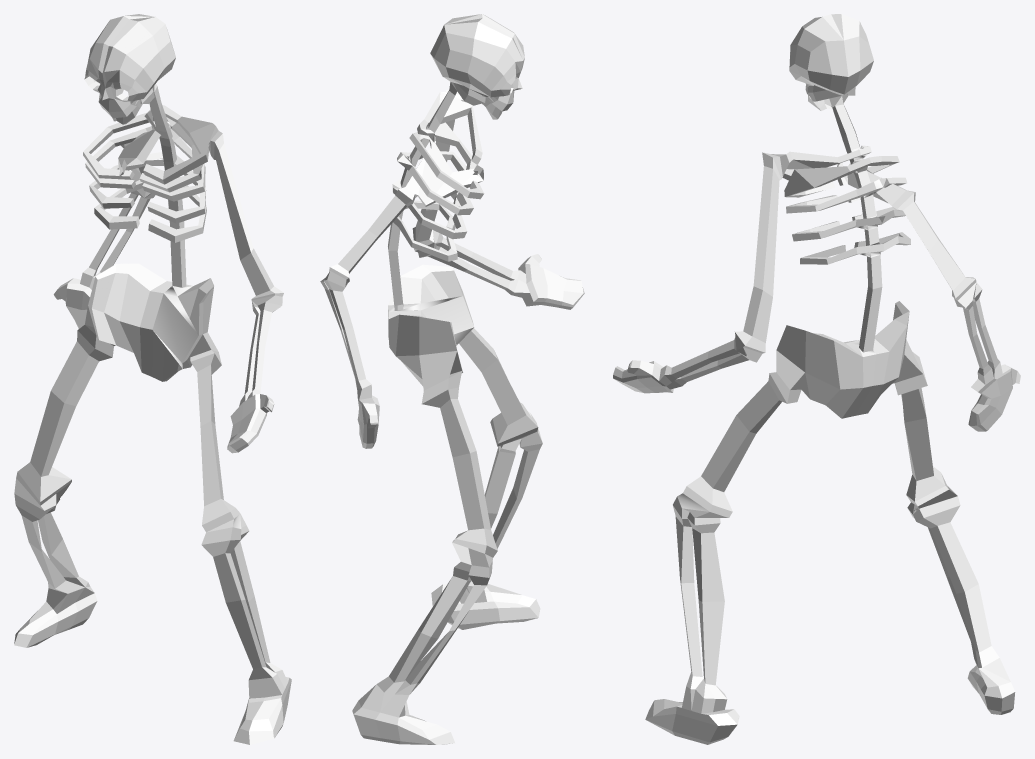
Rendered from SkeletonIdle(89).obj.
3 views of the same model, side by side, from view 1: azimuth 30°, elevation 25°; view 2: azimuth 150°, elevation 25°; view 3: azimuth 270°, elevation 25° (orthographic). The views are drawn at different scales.
Parts seen in each view (by area): view 1: Object002; view 2: Object002; view 3: Object002.
Part boxes in pixels (x1,y1,x2,y2): Object002: [14, 14, 291, 744]; Object002: [320, 14, 584, 744]; Object002: [613, 14, 1020, 744].
Bounding box in the file's own units: 306 × 1132 × 611.
